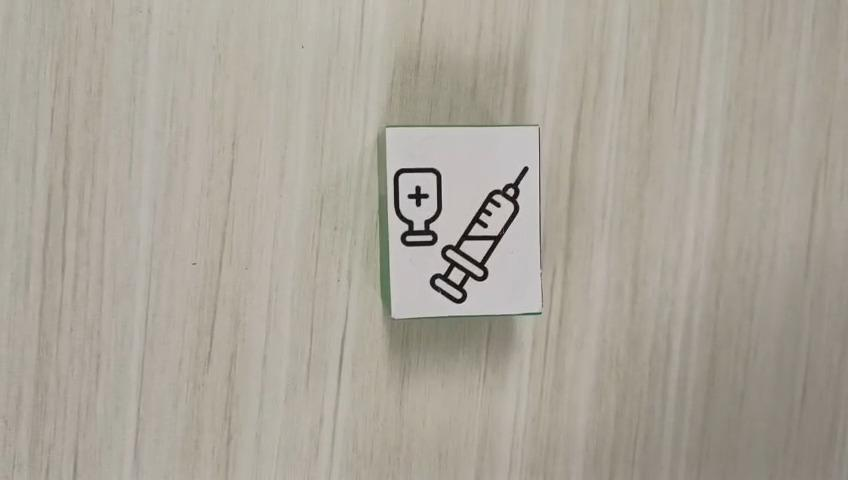antiseptic cream: (377, 123, 542, 319)
